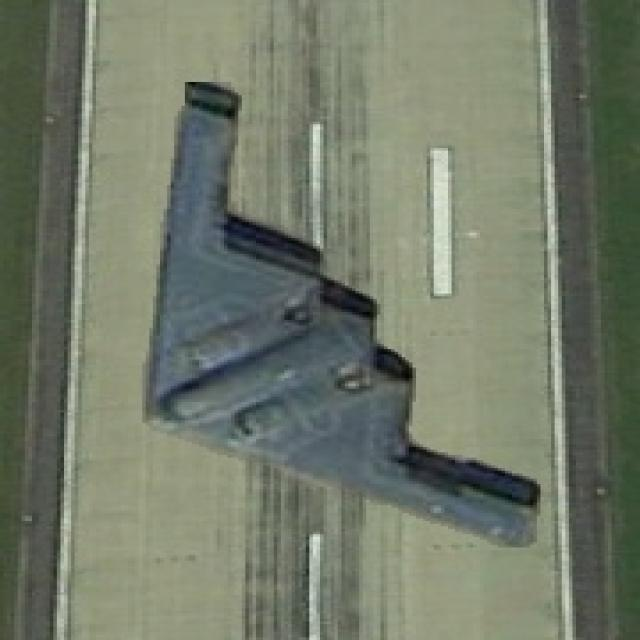B-2_TopDown: (135, 77, 544, 547)
